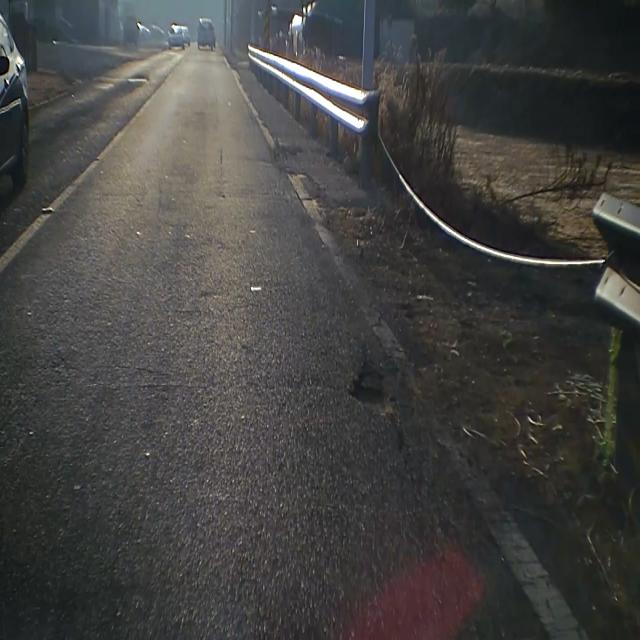Pothole: (345, 360, 396, 422)
